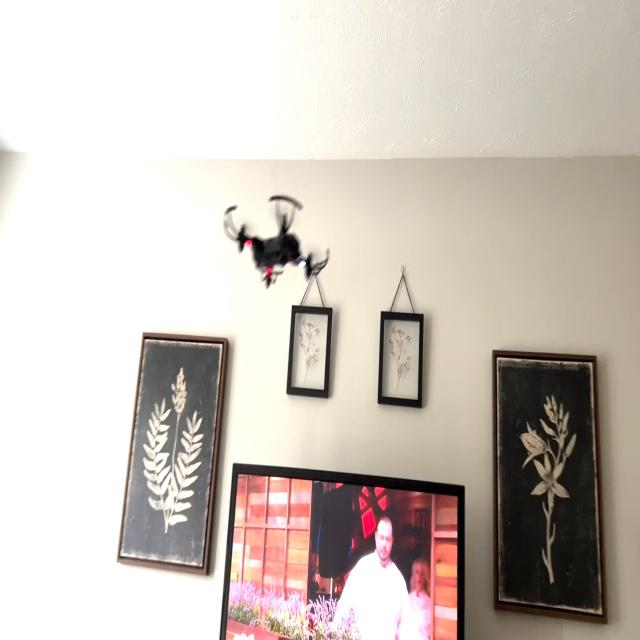drone: (209, 165, 343, 307)
